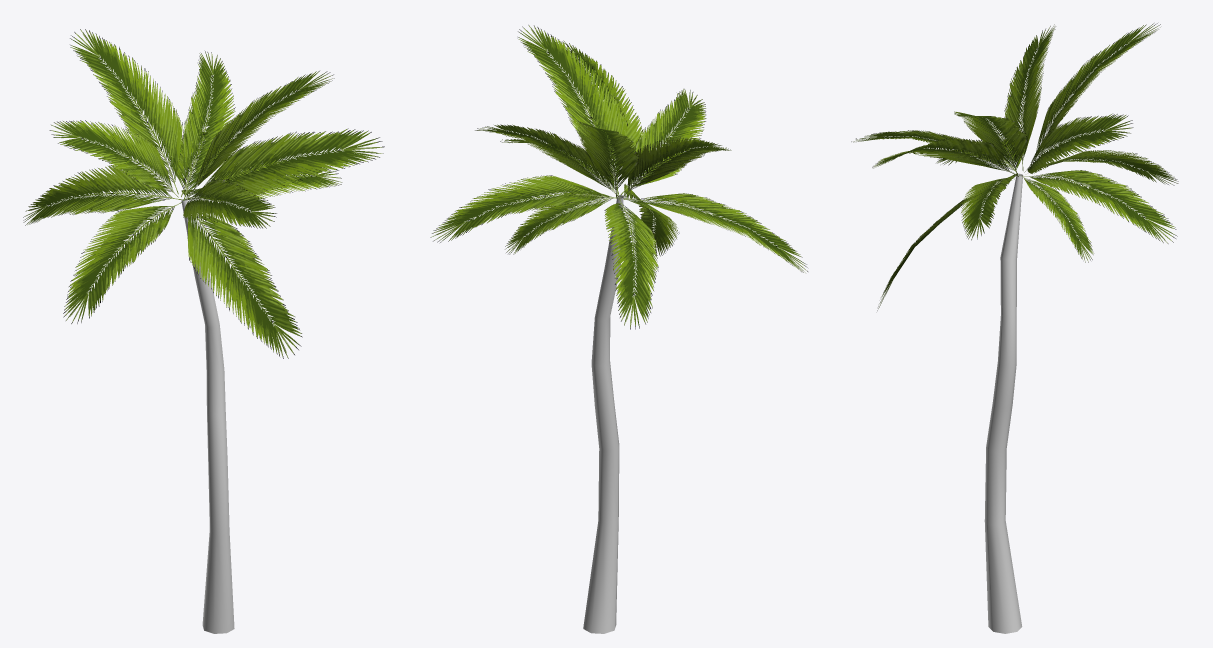
Rendered from CoconutTree2.fbx.
The picture shows the model from 3 angles, left to right: view 1: azimuth 30°, elevation 25°; view 2: azimuth 150°, elevation 25°; view 3: azimuth 270°, elevation 25°; orthographic projection. The views are drawn at different scales.
Parts seen in each view (by area): view 1: CoconutTree2; view 2: CoconutTree2; view 3: CoconutTree2.
Boxes of the visible parts, x1,y1,x2,y2 form: CoconutTree2: [23, 29, 384, 633]; CoconutTree2: [430, 25, 807, 633]; CoconutTree2: [851, 23, 1178, 633].
Bounding box in the file's own units: 650 × 1146 × 641.
